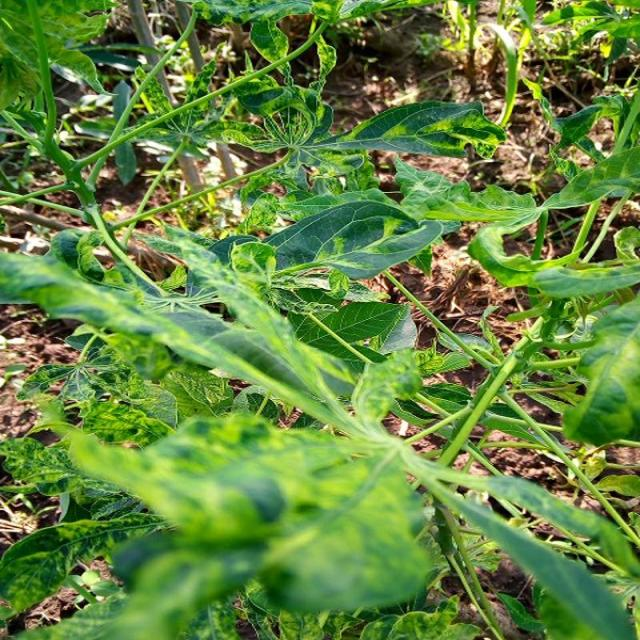cassava leaf: (37, 397, 435, 621)
